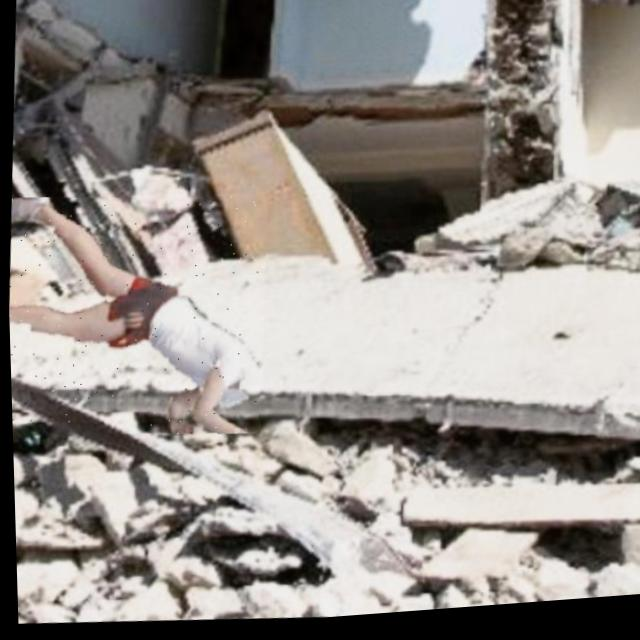Person in Rubble: (5, 183, 270, 450)
